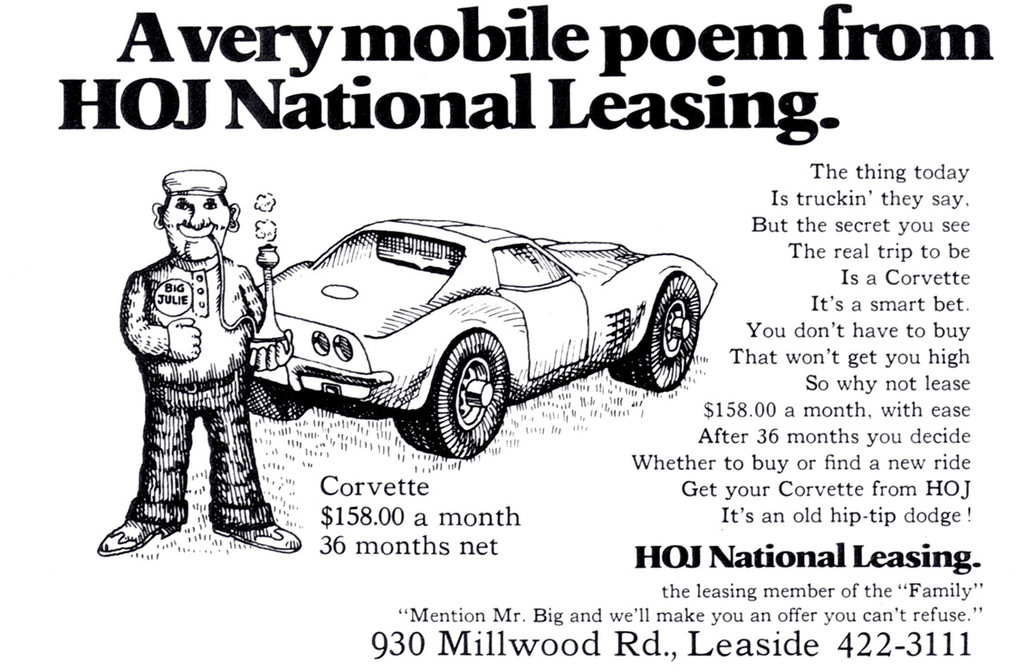Car: (249, 214, 713, 461)
